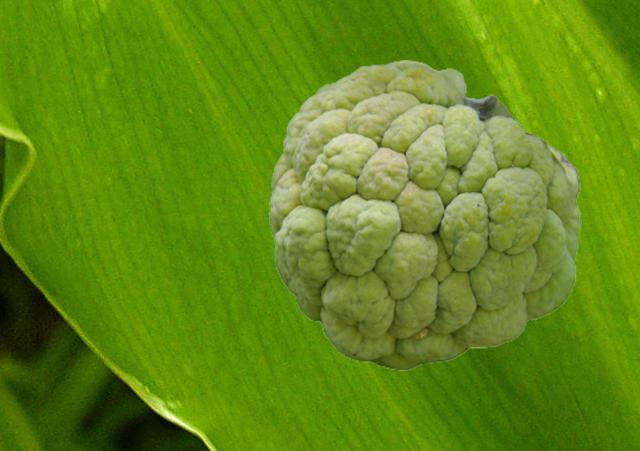atis: (269, 60, 580, 369)
